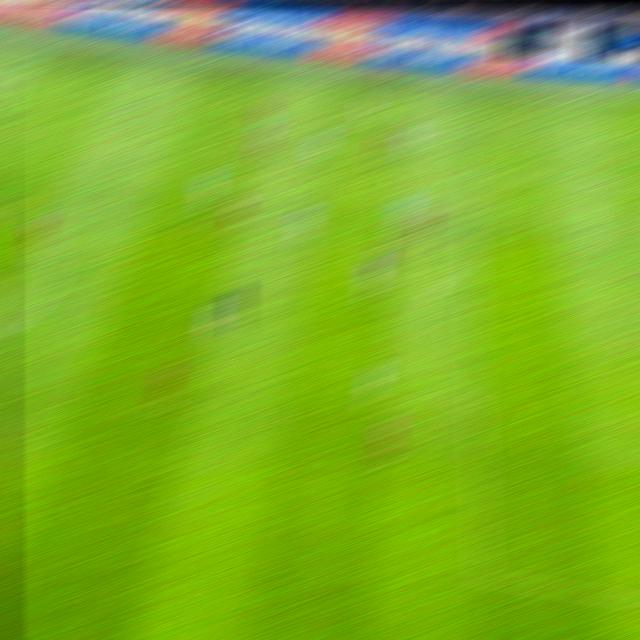bigarea_bottom_inner: (471, 569, 494, 583)
bigarea_top_inner: (459, 167, 481, 180)
bottom_arc_area_intersection: (465, 401, 487, 415)
midline_top_intersection: (32, 45, 53, 57)
smallarea_top_inner: (630, 263, 640, 273)
top_arc_area_intersection: (461, 262, 484, 275)
